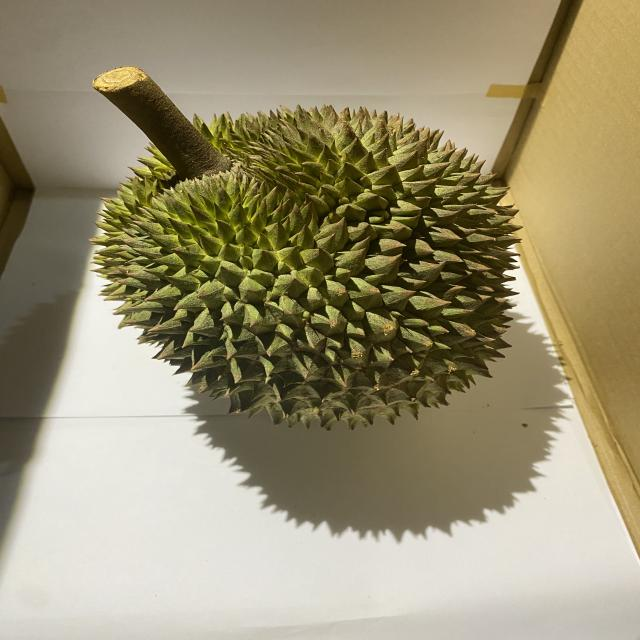immature: (91, 105, 528, 432)
